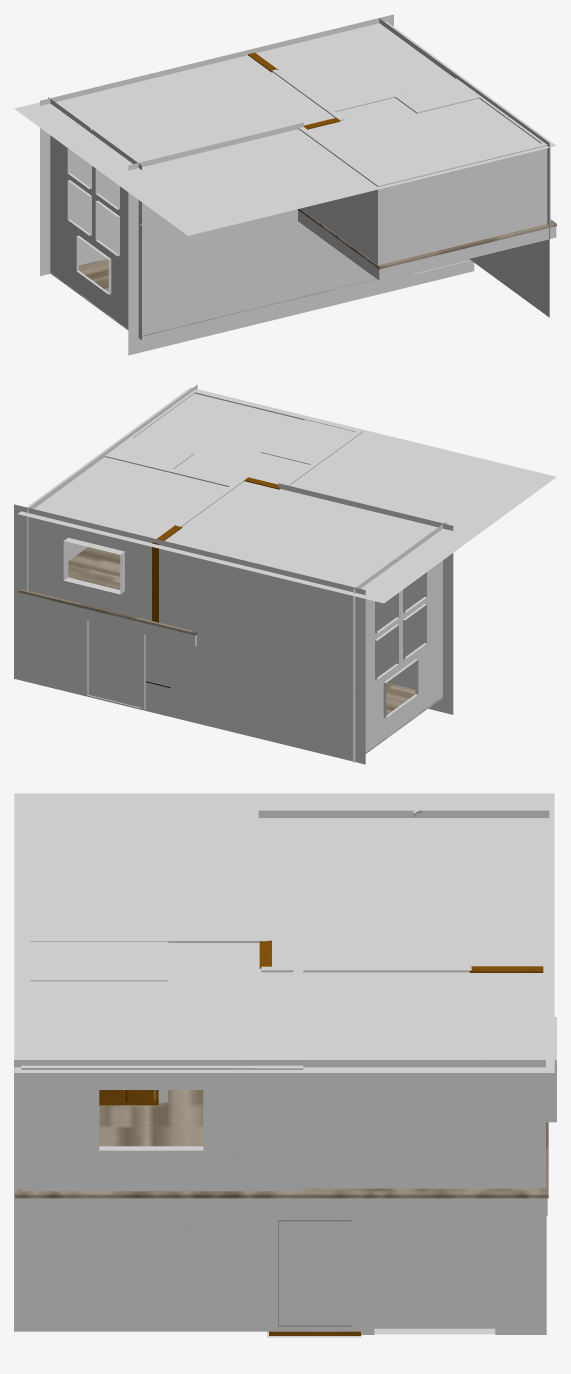
The model's file is MyHome_export2.fbx.
The picture shows the model from 3 angles, top to bottom: view 1: azimuth 30°, elevation 25°; view 2: azimuth 150°, elevation 25°; view 3: azimuth 270°, elevation 25°; orthographic projection. The views are drawn at different scales.
Visible parts, largest first — view 1: home_body; view 2: home_body; view 3: home_body.
Part boxes in pixels (bbox=[...]): home_body: bbox=[14, 14, 556, 355]; home_body: bbox=[14, 384, 556, 764]; home_body: bbox=[14, 793, 556, 1337].
Size of the model in its own units: 15.13 by 7.31 by 12.18.
Materials: 1 (1 with a texture image).
